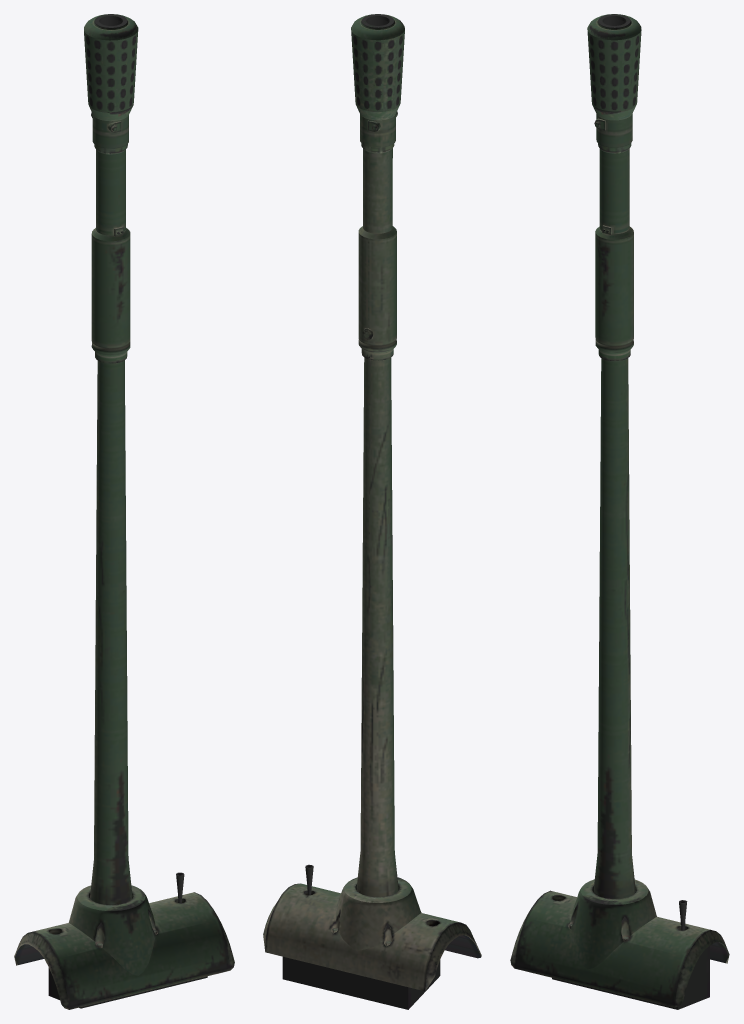
File: Gun_04.glb
3 renders of one model, left to right at view 1: azimuth 30°, elevation 25°; view 2: azimuth 150°, elevation 25°; view 3: azimuth 330°, elevation 25°, orthographic.
Parts seen in each view (by area): view 1: set_0_group_0; view 2: set_0_group_0; view 3: set_0_group_0.
Boxes of the visible parts, box(x1,y1,x2,y2) form: set_0_group_0: box(14, 14, 234, 1009); set_0_group_0: box(263, 14, 481, 1009); set_0_group_0: box(510, 14, 729, 1009).
Bounding box in the file's own units: 1.02 × 5.48 × 0.5398.
Materials: 1 (1 with a texture image).
